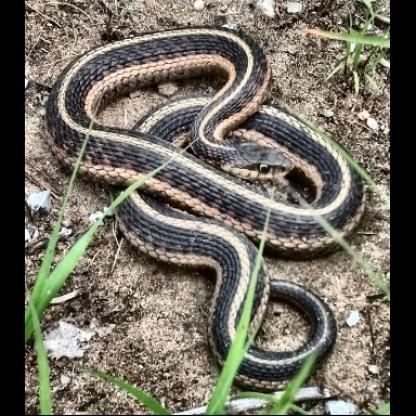Snake: (44, 19, 370, 387)
